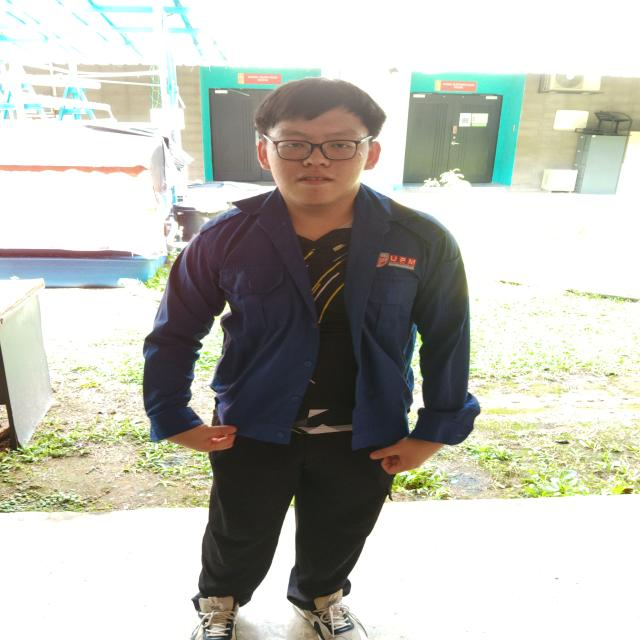person_with_labcoat: (144, 78, 479, 640)
